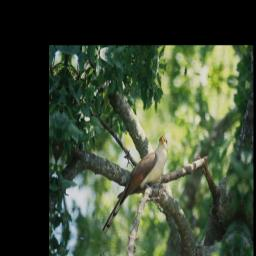Cuckoo: (100, 121, 171, 248)
